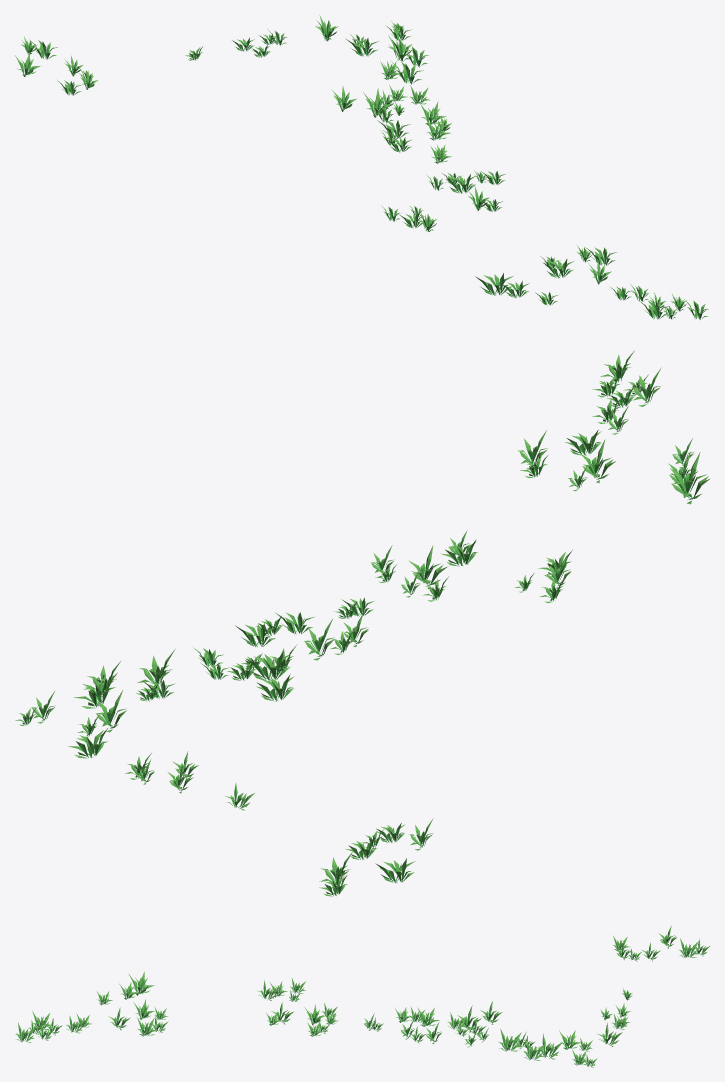
Rendered from Area_09_54.fbx.
3 renders of one model, top to bottom at view 1: azimuth 30°, elevation 25°; view 2: azimuth 150°, elevation 25°; view 3: azimuth 270°, elevation 25°, orthographic. The views are drawn at different scales.
Parts seen in each view (by area): view 1: Area_09_54; view 2: Area_09_54; view 3: Area_09_54.
Boxes of the visible parts, bbox=[...] form: Area_09_54: bbox=[15, 15, 708, 319]; Area_09_54: bbox=[15, 350, 710, 896]; Area_09_54: bbox=[15, 926, 709, 1067].
Size of the model in its own units: 1445 by 118 by 3341.
